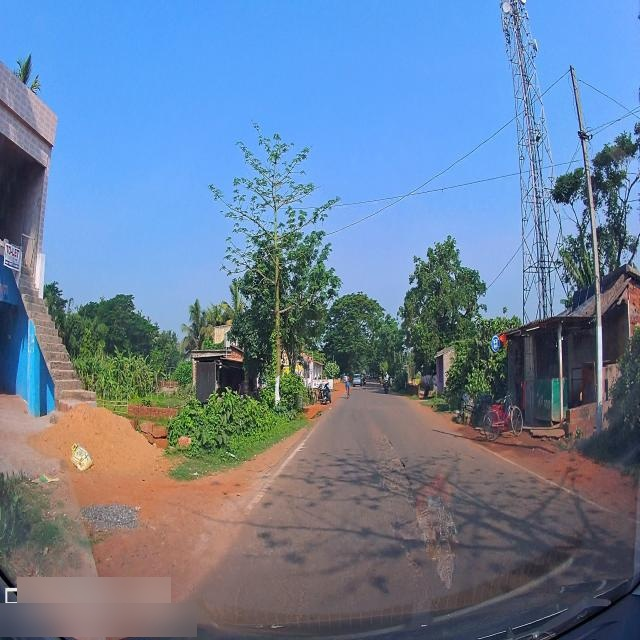pothole: (379, 459, 417, 524), (400, 527, 422, 572), (381, 457, 401, 467), (385, 438, 393, 451), (376, 439, 381, 452), (410, 525, 420, 531)
